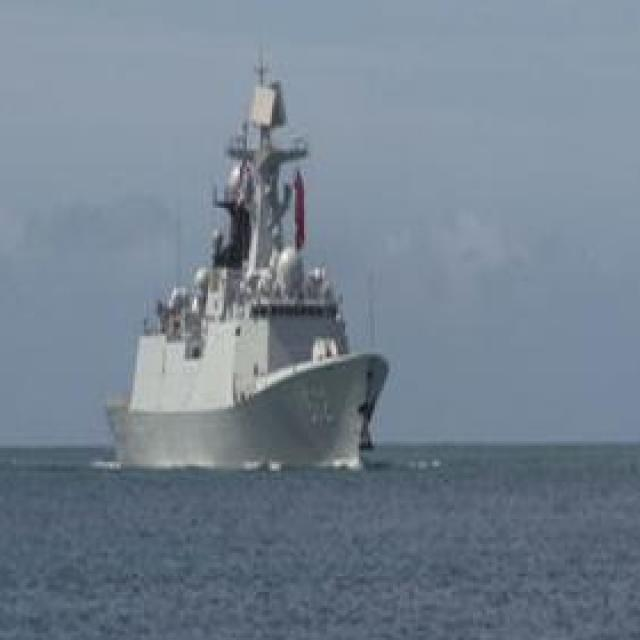navalvessels: (64, 38, 405, 457)
